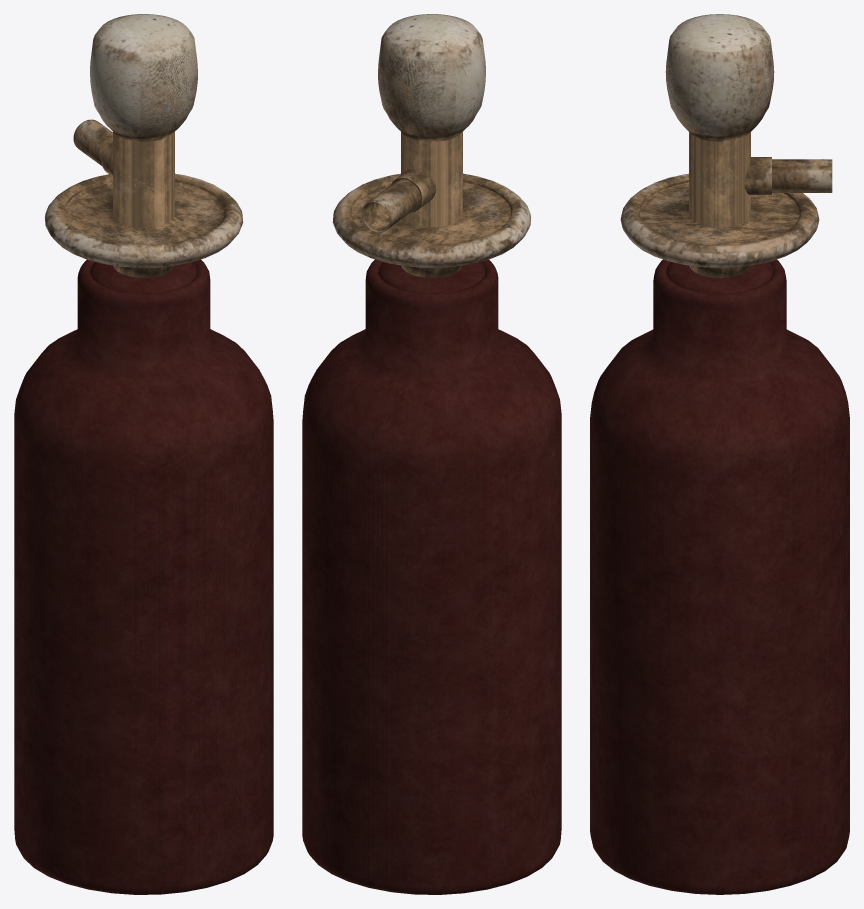
Rendered from fiolka2.glb.
The picture shows the model from 3 angles, left to right: view 1: azimuth 30°, elevation 25°; view 2: azimuth 150°, elevation 25°; view 3: azimuth 270°, elevation 25°; orthographic projection.
Visible parts, largest first — view 1: Cylinder.244; view 2: Cylinder.244; view 3: Cylinder.244.
Part boxes in pixels (x1,y1,x2,y2): Cylinder.244: (14, 14, 273, 894); Cylinder.244: (302, 14, 561, 894); Cylinder.244: (590, 14, 849, 894).
Size of the model in its own units: 0.0581 by 0.2015 by 0.0581.
1 material, 1 textured.
